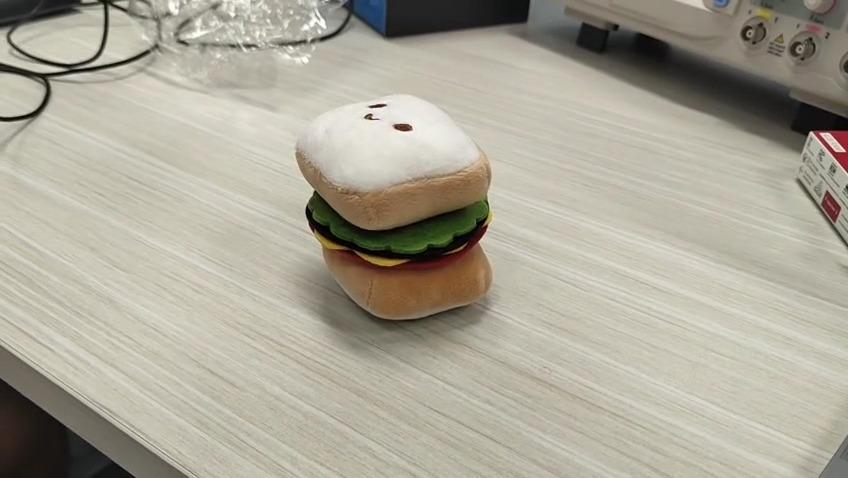objects: (297, 94, 493, 323)
